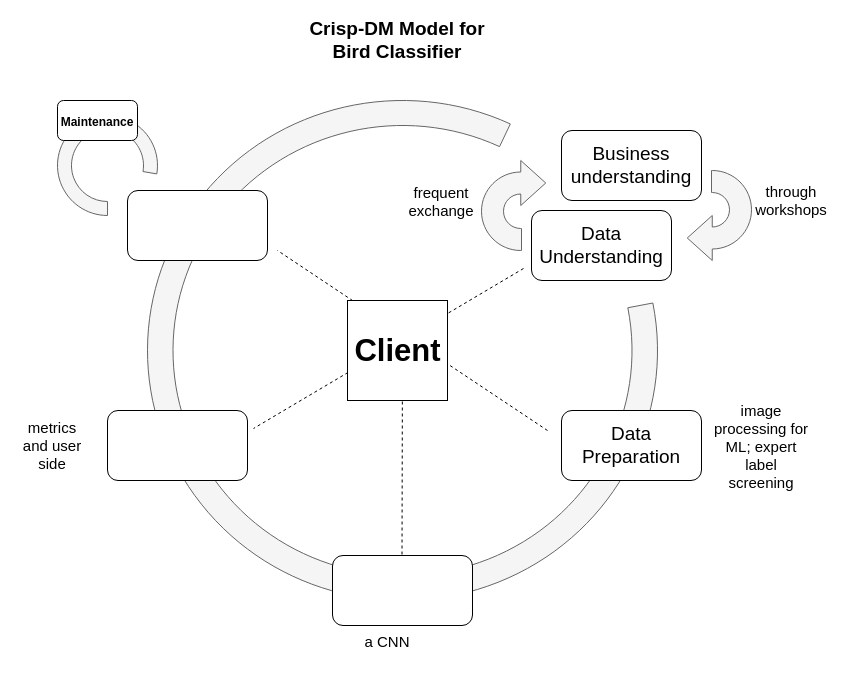
Image size: 844x685. Some labels were removed from this diagram. Each missing label, with the centre of its shape:
"Deployment" belongs at (197,225).
"Evaluation" belongs at (177,445).
"Modeling" belongs at (402,590).
